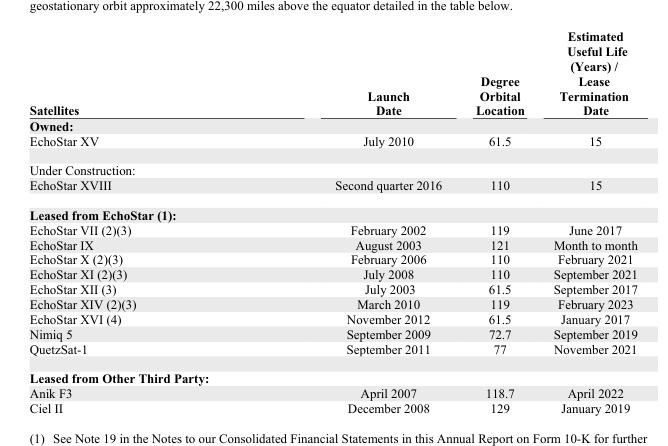table: (28, 28, 637, 414)
table column: (234, 28, 458, 414), (28, 28, 234, 414), (538, 28, 637, 414), (458, 28, 538, 414)
table column header: (28, 28, 637, 117)
table projected row header: (28, 155, 637, 177), (28, 199, 637, 221), (28, 363, 637, 385), (28, 117, 637, 132)
table row: (28, 28, 637, 117), (28, 132, 637, 155), (28, 340, 637, 363), (28, 155, 637, 177), (28, 177, 637, 199), (28, 199, 637, 221), (28, 363, 637, 385), (28, 117, 637, 132), (28, 221, 637, 236), (28, 236, 637, 251), (28, 251, 637, 266), (28, 266, 637, 281), (28, 281, 637, 296), (28, 296, 637, 311), (28, 325, 637, 340), (28, 385, 637, 400), (28, 311, 637, 325), (28, 400, 637, 414)
